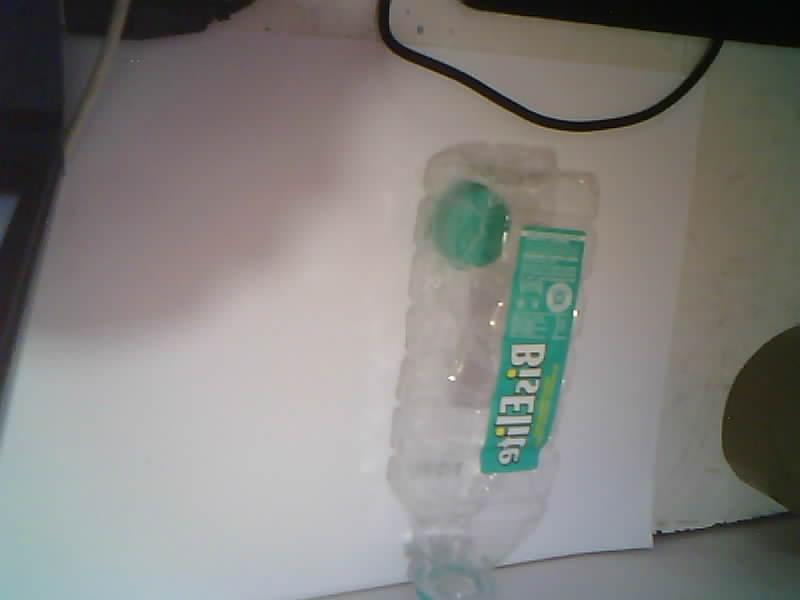non-biodegradable: (387, 144, 596, 599)
